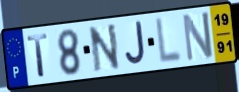8: (55, 27, 82, 77)
J: (123, 20, 147, 67)
L: (155, 15, 183, 66)
N: (181, 9, 215, 64), (87, 22, 122, 74)
T: (26, 32, 50, 79)
